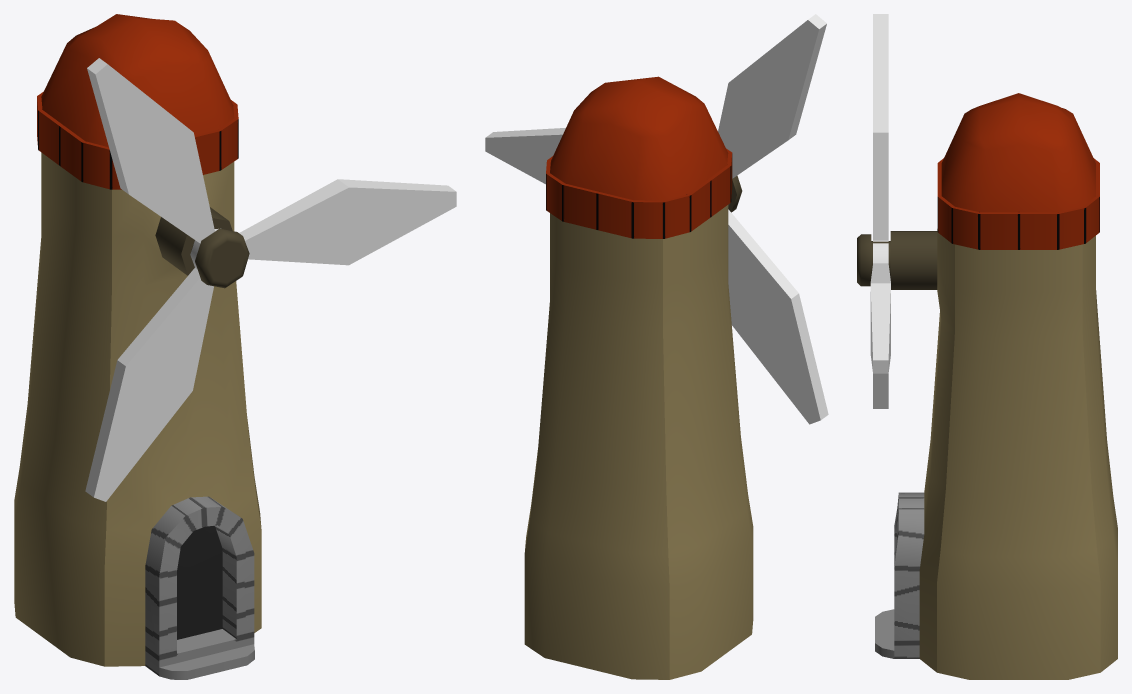
Rendered from WindMill.FBX.
3 renders of one model, left to right at view 1: azimuth 30°, elevation 25°; view 2: azimuth 150°, elevation 25°; view 3: azimuth 270°, elevation 25°, orthographic. The views are drawn at different scales.
Visible parts, largest first — view 1: Mill, Blades; view 2: Mill, Blades; view 3: Mill, Blades.
Boxes of the visible parts, x1=… form: Mill: x1=14, y1=14, x2=261, y2=679; Blades: x1=85, y1=58, x2=456, y2=501; Mill: x1=524, y1=76, x2=753, y2=679; Blades: x1=485, y1=14, x2=828, y2=424; Mill: x1=857, y1=93, x2=1117, y2=679; Blades: x1=870, y1=14, x2=890, y2=408.
Size of the model in its own units: 75.32 by 126 by 51.82.
